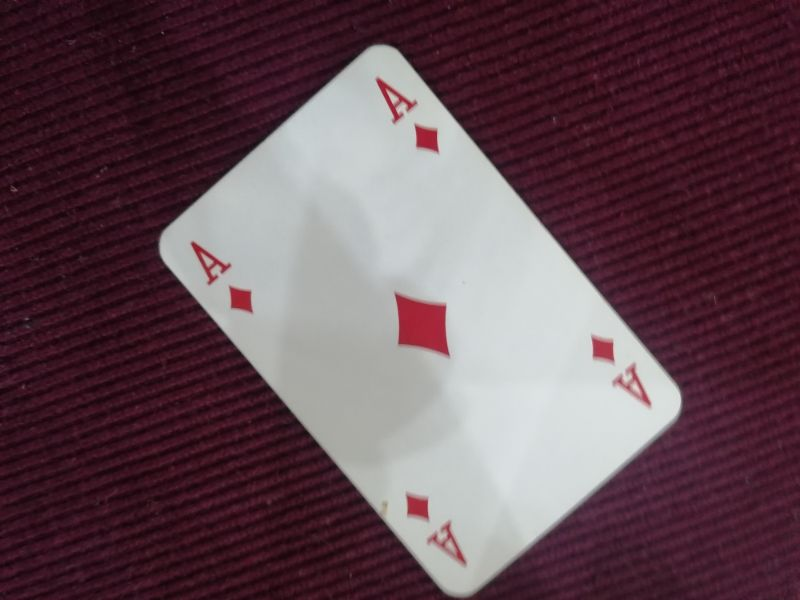Ad: (367, 69, 447, 158), (183, 233, 259, 318), (400, 484, 471, 573), (587, 327, 657, 409)
